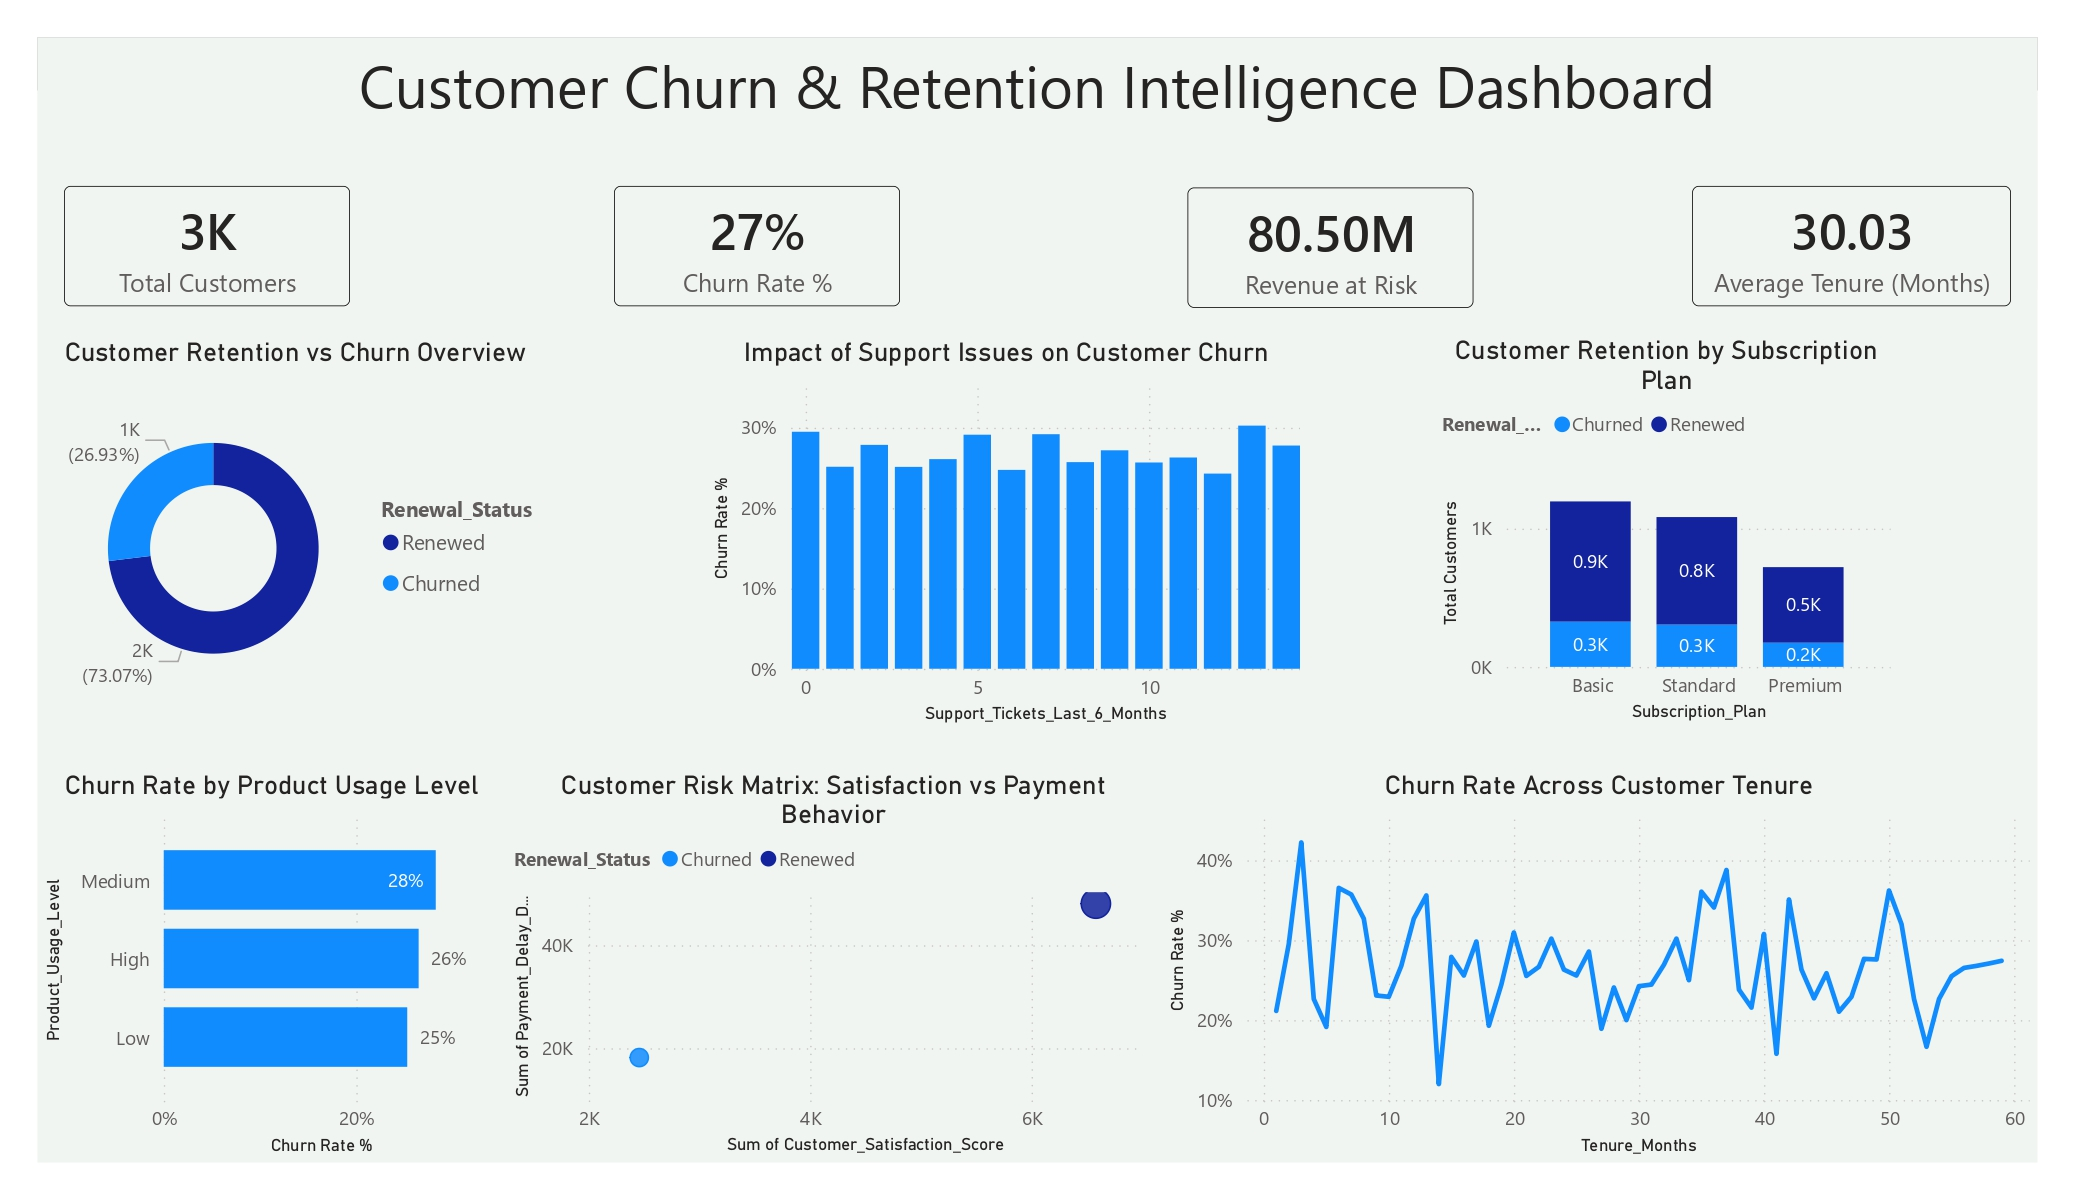

The dashboard page shown, as its layout file describes it:
{"tool":"powerbi","page":{"name":"Page 1","canvas":[1280,720],"ordinal":0},"visuals":[{"type":"textbox","box":[0,0,1280.3,78.2],"z":0},{"type":"cardVisual","fields":{"Data":["Sheet1.Total Customers"]},"box":[0,78.3,217.7,111.3],"z":1},{"type":"cardVisual","fields":{"Data":["Sheet1.Churn Rate %"]},"box":[352.2,78.3,217.7,111.3],"z":2},{"type":"cardVisual","fields":{"Data":["Sheet1.Revenue at Risk"]},"box":[719,79.5,217.7,111.3],"z":3},{"type":"cardVisual","fields":{"Data":["Sheet1.Average Tenure (Months)"]},"box":[1041.9,78.3,238.5,111.3],"z":4},{"type":"donutChart","title":"Customer Retention vs Churn Overview","fields":{"Category":["Sheet1.Renewal_Status"],"Y":["Sheet1.Total Customers"]},"box":[0,190.8,330.2,253.1],"z":5},{"type":"barChart","title":"Churn Rate by Product Usage Level","fields":{"Category":["Sheet1.Product_Usage_Level"],"Y":["Sheet1.Churn Rate %"]},"box":[0,468.3,299.6,251.9],"z":6},{"type":"columnChart","title":"Impact of Support Issues on Customer Churn","fields":{"Category":["Sheet1.Support_Tickets_Last_6_Months"],"Y":["Sheet1.Churn Rate %"]},"box":[426.8,190.8,386.4,253.1],"z":7},{"type":"scatterChart","title":"Customer Risk Matrix: Satisfaction vs Payment Behavior","fields":{"X":["Sum(Sheet1.Customer_Satisfaction_Score)"],"Y":["Sum(Sheet1.Payment_Delay_Days)"],"Size":["Sum(Sheet1.Total_Revenue)"],"Series":["Sheet1.Renewal_Status"]},"box":[299.6,468.3,419.4,251.9],"z":8},{"type":"columnChart","title":"Customer Retention by Subscription Plan","fields":{"Category":["Sheet1.Subscription_Plan"],"Y":["Sheet1.Total Customers"],"Series":["Sheet1.Renewal_Status"]},"box":[893.9,189.5,297.1,253.1],"z":9},{"type":"lineChart","title":"Churn Rate Across Customer Tenure","fields":{"Y":["Sheet1.Churn Rate %"],"Category":["Sheet1.Tenure_Months"]},"box":[719,468.3,561.3,251.9],"z":10}]}

Visuals, with their boxes on the page's 1280x720 design canvas (x1, y1, x2, y2). These are canvas units, not pixel positions in the 2075x1200 screenshot, which may show the page scaled, cropped or inside an application window:
textbox: BBox(0, 0, 1280, 78)
cardVisual - Sheet1.Total Customers: BBox(0, 78, 218, 190)
cardVisual - Sheet1.Churn Rate %: BBox(352, 78, 570, 190)
cardVisual - Sheet1.Revenue at Risk: BBox(719, 80, 937, 191)
cardVisual - Sheet1.Average Tenure (Months): BBox(1042, 78, 1280, 190)
"Customer Retention vs Churn Overview" donutChart: BBox(0, 191, 330, 444)
"Churn Rate by Product Usage Level" barChart: BBox(0, 468, 300, 720)
"Impact of Support Issues on Customer Churn" columnChart: BBox(427, 191, 813, 444)
"Customer Risk Matrix: Satisfaction vs Payment Behavior" scatterChart: BBox(300, 468, 719, 720)
"Customer Retention by Subscription Plan" columnChart: BBox(894, 190, 1191, 443)
"Churn Rate Across Customer Tenure" lineChart: BBox(719, 468, 1280, 720)
